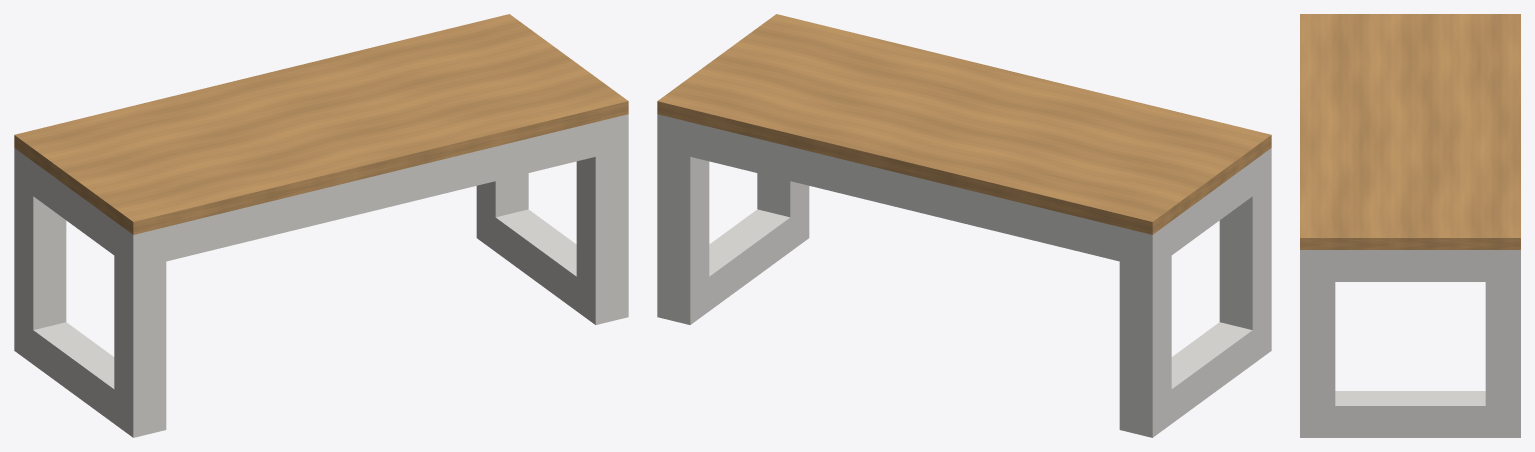
The model's file is mesa-living-nord-miel-blanco-8cm.glb.
The picture shows the model from 3 angles, left to right: view 1: azimuth 30°, elevation 25°; view 2: azimuth 150°, elevation 25°; view 3: azimuth 270°, elevation 25°; orthographic projection. The views are drawn at different scales.
Parts seen in each view (by area): view 1: Tapa de madera maciza 120 x 50 cm, Pata recta de hierro 8 x 8 cm (×4), Larguero longitudinal superior recto, Travesaño inferior recto (×2), Travesaño superior recto; view 2: Tapa de madera maciza 120 x 50 cm, Pata recta de hierro 8 x 8 cm (×4), Larguero longitudinal superior recto, Travesaño inferior recto (×2), Travesaño superior recto; view 3: Tapa de madera maciza 120 x 50 cm, Pata recta de hierro 8 x 8 cm (×2), Travesaño inferior recto, Travesaño superior recto.
Boxes of the visible parts, x1,y1,x2,y2 form: Tapa de madera maciza 120 x 50 cm: (14, 14, 628, 234); Pata recta de hierro 8 x 8 cm (×4): (14, 114, 628, 437); Larguero longitudinal superior recto: (166, 122, 595, 261); Travesaño inferior recto (×2): (24, 209, 585, 429); Travesaño superior recto: (24, 156, 123, 261); Tapa de madera maciza 120 x 50 cm: (657, 14, 1271, 234); Pata recta de hierro 8 x 8 cm (×4): (657, 114, 1271, 437); Larguero longitudinal superior recto: (690, 122, 1119, 261); Travesaño inferior recto (×2): (700, 209, 1261, 430); Travesaño superior recto: (1162, 155, 1261, 262); Tapa de madera maciza 120 x 50 cm: (1300, 14, 1520, 249); Pata recta de hierro 8 x 8 cm (×2): (1300, 250, 1520, 437); Travesaño inferior recto: (1318, 391, 1502, 437); Travesaño superior recto: (1317, 250, 1503, 281).
Bounding box in the file's own units: 1.2 × 0.5 × 0.5.
Materials: 2 (1 with a texture image).
